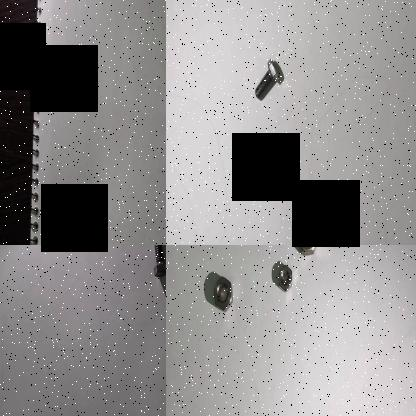Bolts: (247, 54, 284, 100), (149, 245, 166, 281)
NUTS: (212, 275, 234, 313), (277, 263, 295, 295), (292, 245, 322, 259)
